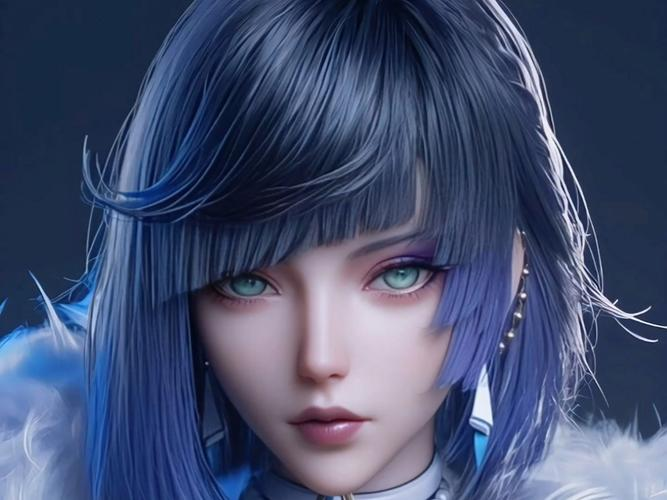夜兰: (79, 2, 587, 500)
